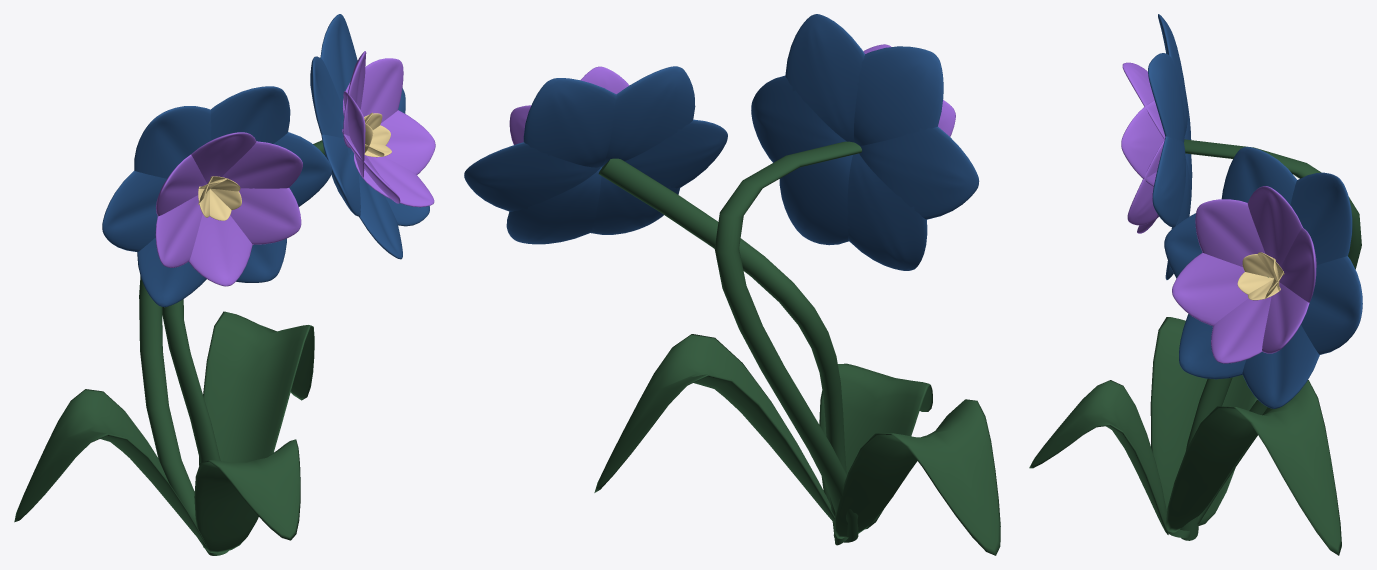
The model's file is flower5.glb.
The picture shows the model from 3 angles, left to right: view 1: azimuth 30°, elevation 25°; view 2: azimuth 150°, elevation 25°; view 3: azimuth 270°, elevation 25°; orthographic projection. The views are drawn at different scales.
Parts seen in each view (by area): view 1: flower, Plane, flower.001, BézierCurve, BézierCurve.001; view 2: flower, flower.001, Plane, BézierCurve, BézierCurve.001; view 3: flower.001, Plane, flower, BézierCurve, BézierCurve.001.
Part boxes in pixels (<box>): flower: <box>102,86,331,307</box>; Plane: <box>14,311,314,553</box>; flower.001: <box>310,14,435,259</box>; BézierCurve: <box>139,276,228,555</box>; BézierCurve.001: <box>162,140,325,462</box>; flower: <box>751,14,979,270</box>; flower.001: <box>464,66,727,244</box>; Plane: <box>594,334,1000,555</box>; BézierCurve: <box>714,141,861,542</box>; BézierCurve.001: <box>598,158,848,545</box>; flower.001: <box>1164,146,1362,408</box>; Plane: <box>1029,317,1341,555</box>; flower: <box>1121,14,1192,279</box>; BézierCurve: <box>1168,139,1361,537</box>; BézierCurve.001: <box>1180,277,1268,540</box>.
Size of the model in its own units: 0.3706 by 0.376 by 0.23.
